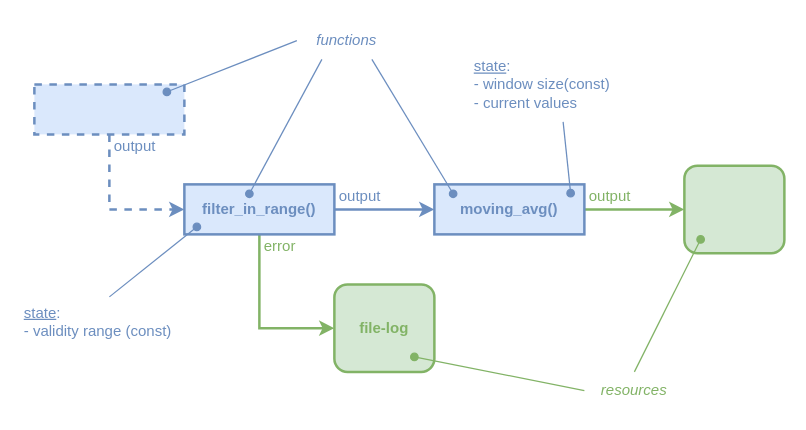
Some shapes in this 806 by 430 pixel diagram are drawn without their labels. The centre of each missing label's shape, as x and y in pixels:
"redis" goes at pixel 733 209.
"sensor simulator" goes at pixel 108 108.
